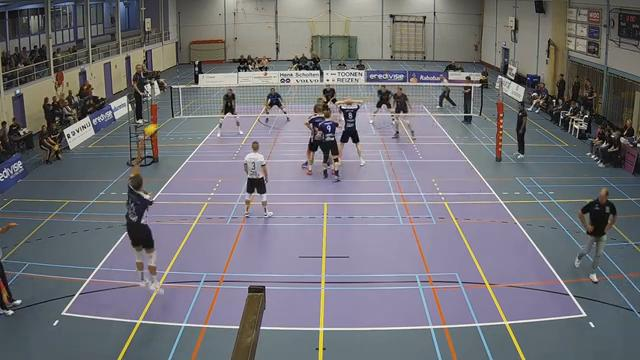Player: (244, 141, 272, 217), (336, 99, 364, 165), (303, 104, 324, 174), (318, 111, 339, 181), (217, 88, 242, 136), (392, 87, 414, 139), (265, 88, 289, 122), (370, 85, 391, 122), (322, 84, 336, 105), (313, 97, 329, 113)
Serve: (112, 137, 169, 296)
ball: (144, 123, 158, 137)
